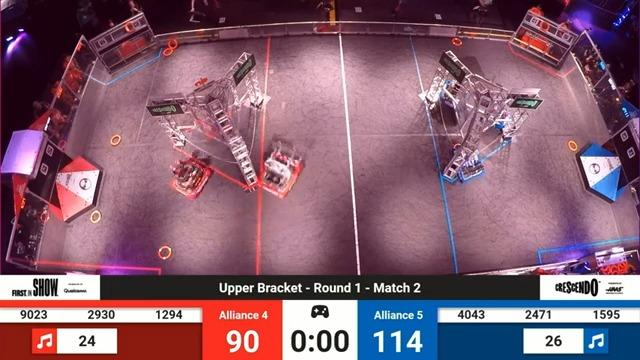robot: (255, 136, 306, 201), (162, 149, 209, 199), (437, 62, 475, 112), (483, 91, 522, 129), (455, 143, 489, 184)
